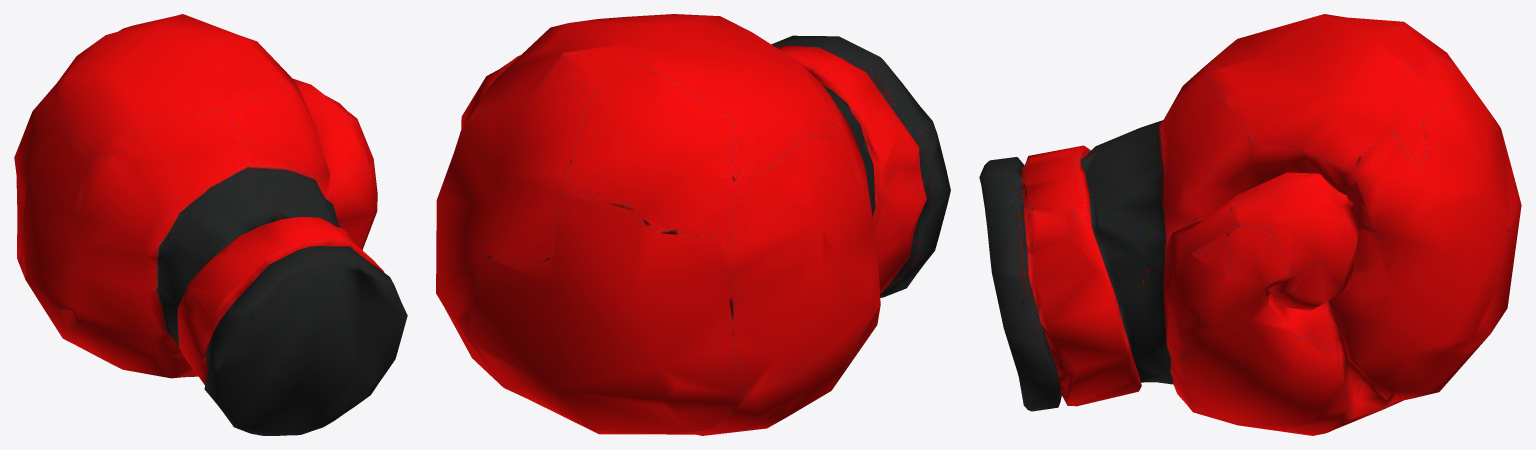
File: glove.glb
3 views of the same model, side by side, from view 1: azimuth 30°, elevation 25°; view 2: azimuth 150°, elevation 25°; view 3: azimuth 270°, elevation 25° (orthographic). The views are drawn at different scales.
Visible parts, largest first — view 1: geometry_0; view 2: geometry_0; view 3: geometry_0.
Part boxes in pixels (x1,y1,x2,y2): geometry_0: [14, 14, 407, 435]; geometry_0: [436, 14, 950, 435]; geometry_0: [979, 14, 1521, 435].
Size of the model in its own units: 0.1575 by 0.1492 by 0.2.
Materials: 1 (1 with a texture image).
